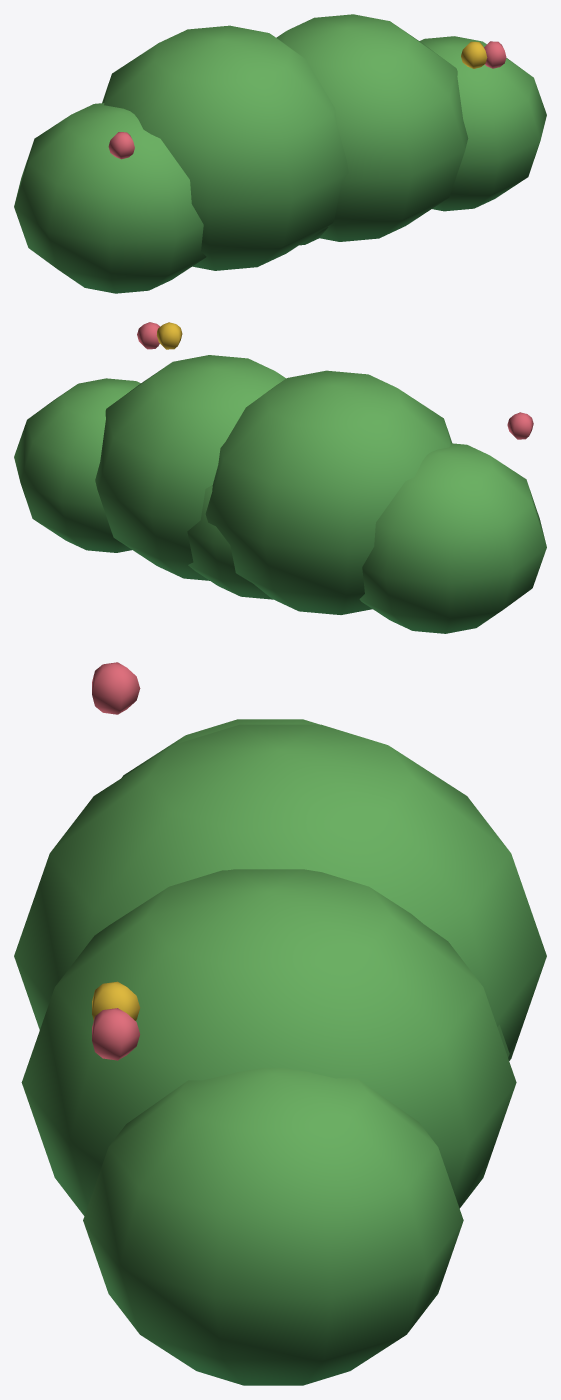
Rendered from prop_bush.glb.
The picture shows the model from 3 angles, top to bottom: view 1: azimuth 30°, elevation 25°; view 2: azimuth 150°, elevation 25°; view 3: azimuth 270°, elevation 25°; orthographic projection. The views are drawn at different scales.
Parts seen in each view (by area): view 1: prop_bush; view 2: prop_bush; view 3: prop_bush.
Boxes of the visible parts, left/top/right/bottom form: prop_bush: left=14, top=14, right=546, bottom=293; prop_bush: left=14, top=322, right=546, bottom=633; prop_bush: left=14, top=662, right=546, bottom=1385.
Bounding box in the file's own units: 2.9 × 1.19 × 1.4.
